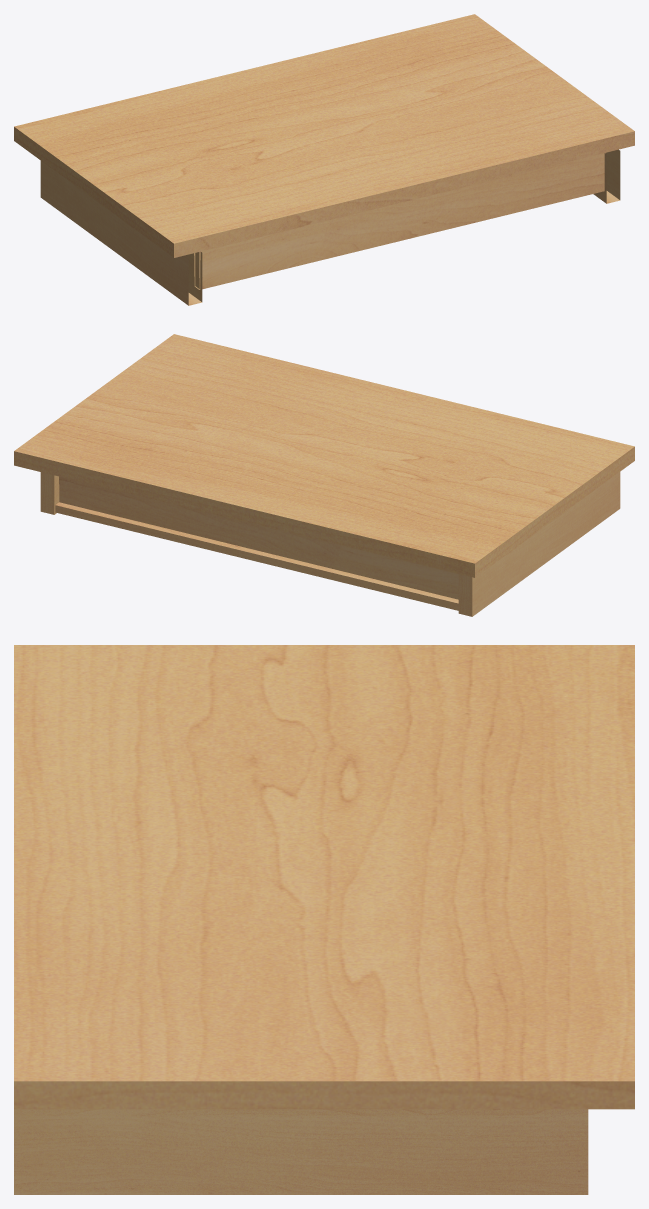
File: muhe.fbx
3 renders of one model, top to bottom at view 1: azimuth 30°, elevation 25°; view 2: azimuth 150°, elevation 25°; view 3: azimuth 270°, elevation 25°, orthographic. The views are drawn at different scales.
Parts seen in each view (by area): view 1: muhe; view 2: muhe; view 3: muhe.
Boxes of the visible parts, x1=… form: muhe: x1=14, y1=14, x2=634, y2=305; muhe: x1=14, y1=334, x2=634, y2=616; muhe: x1=14, y1=645, x2=634, y2=1194.
Bounding box in the file's own units: 89.97 × 12.25 × 54.11.
